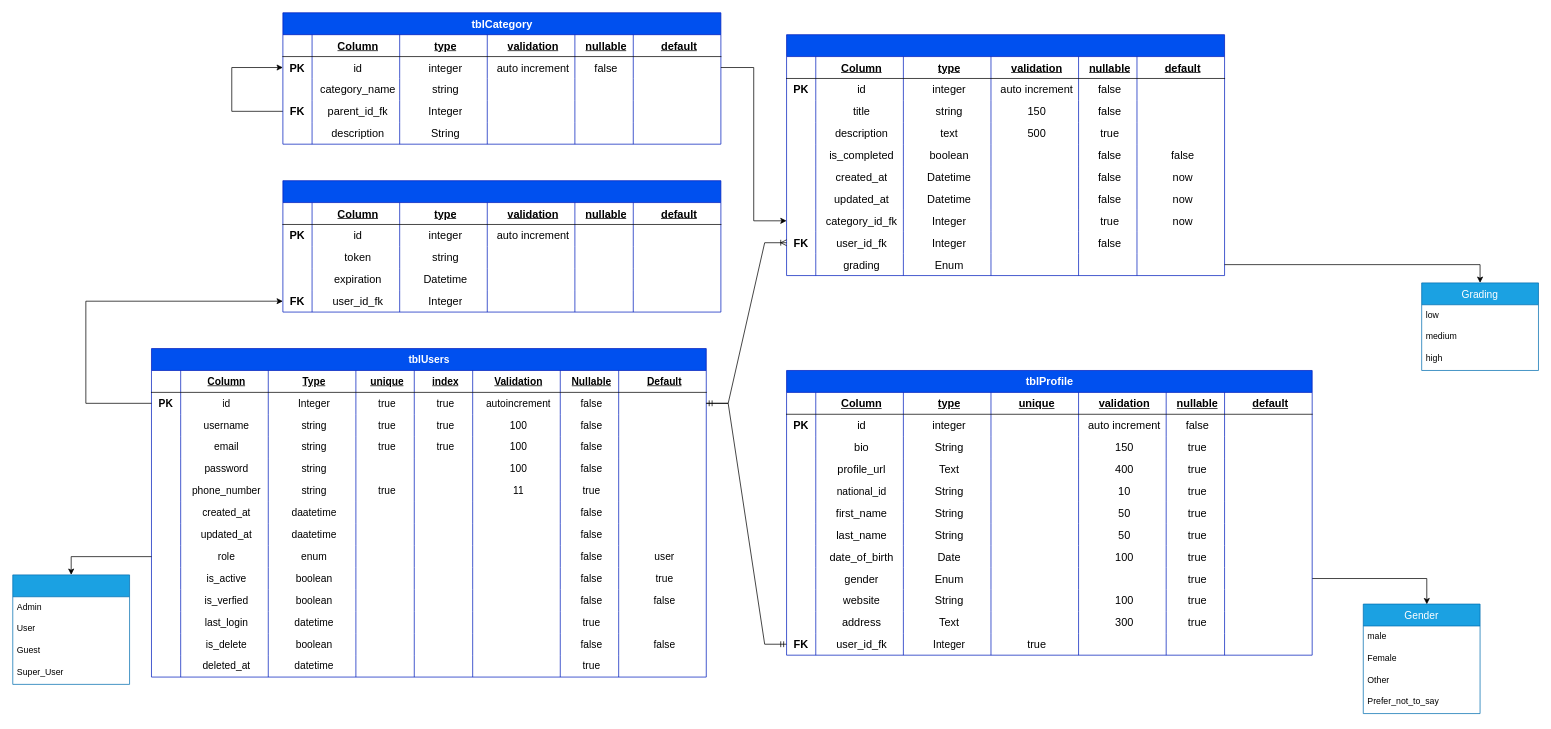
Some shapes in this 1551 by 729 pixel diagram are drawn without their labels. Each missing label, with the box of its shape:
tblTasks: (786, 34, 1225, 276)
tblTokens: (282, 180, 721, 312)
UserRole: (12, 574, 130, 684)
